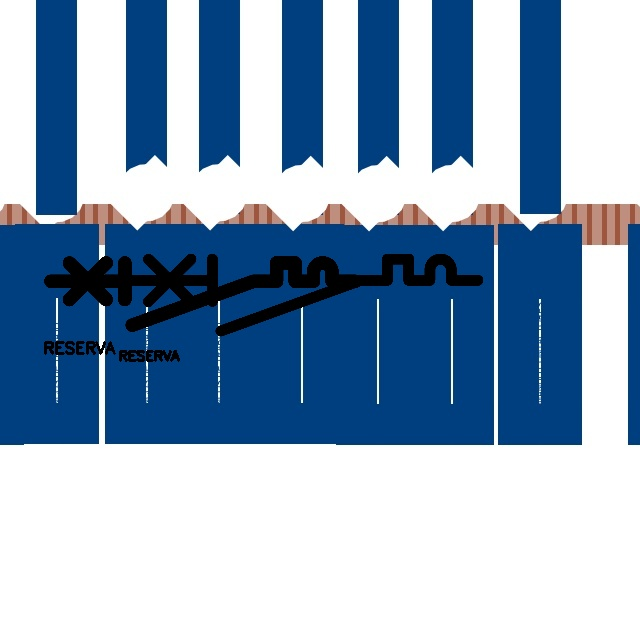interruptor_termomagnetico: (118, 250, 487, 340), (43, 255, 363, 333)
